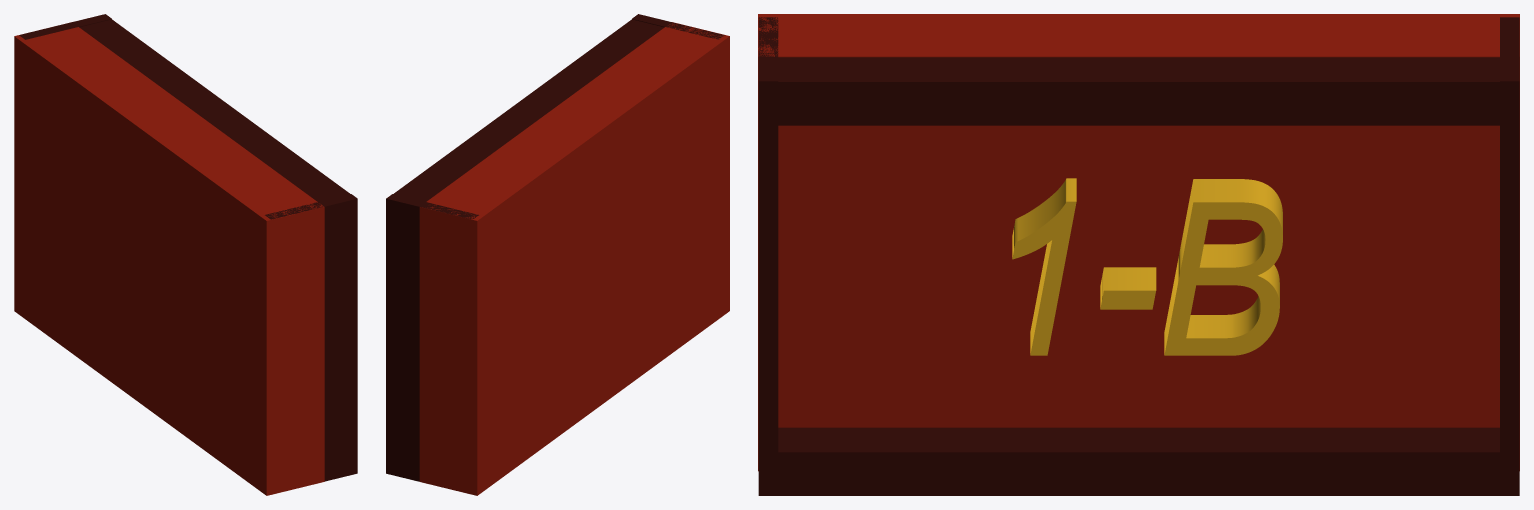
3 renders of one model, left to right at view 1: azimuth 30°, elevation 25°; view 2: azimuth 150°, elevation 25°; view 3: azimuth 270°, elevation 25°, orthographic. The views are drawn at different scales.
Visible parts, largest first — view 1: Cube.003; view 2: Cube.003; view 3: Cube.003.
Boxes of the visible parts, x1,y1,x2,y2 form: Cube.003: (14,14,357,495); Cube.003: (386,14,729,495); Cube.003: (758,14,1519,495).
Bounding box in the file's own units: 69.49 × 200 × 333.
